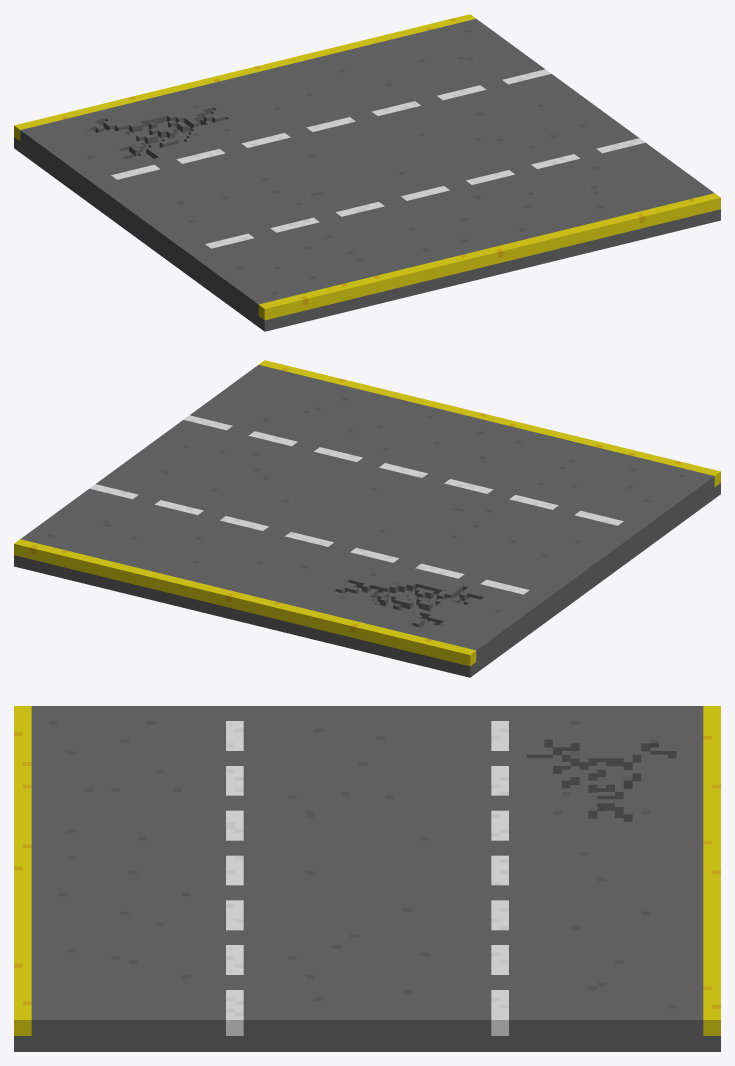
File: Calle4.obj
The picture shows the model from 3 angles, top to bottom: view 1: azimuth 30°, elevation 25°; view 2: azimuth 150°, elevation 25°; view 3: azimuth 270°, elevation 25°; orthographic projection. The views are drawn at different scales.
Bounding box in the file's own units: 8.4 × 0.4 × 8.
1 material, 1 textured.
